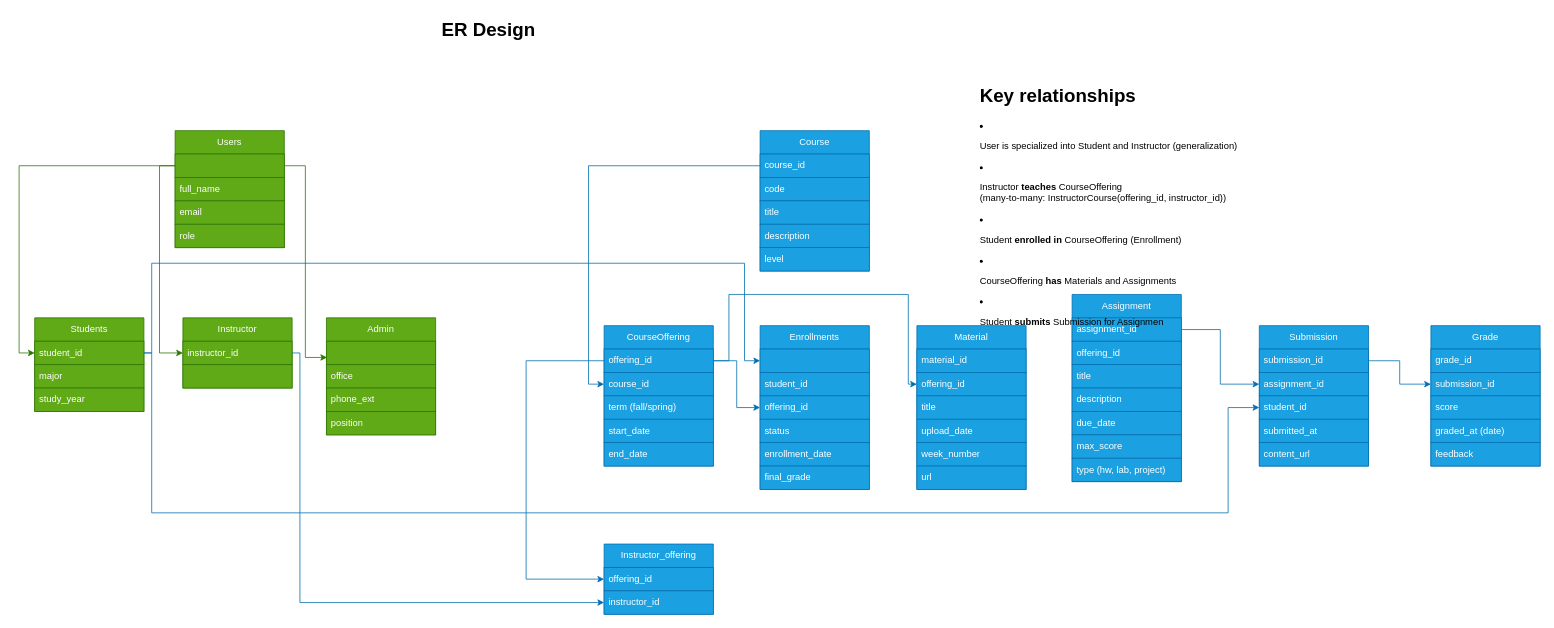
The diagram is 1554 pixels wide and 628 high, and some of its shapes have lost their labels. The shapes that lost their labels are listed below. From the top down, each one's centre as x and y in pixels, then its label:
At point 229,165: "user_id PK".
At point 381,352: "admin_id".
At point 814,360: "enrollment_id".
At point 237,376: "department".
